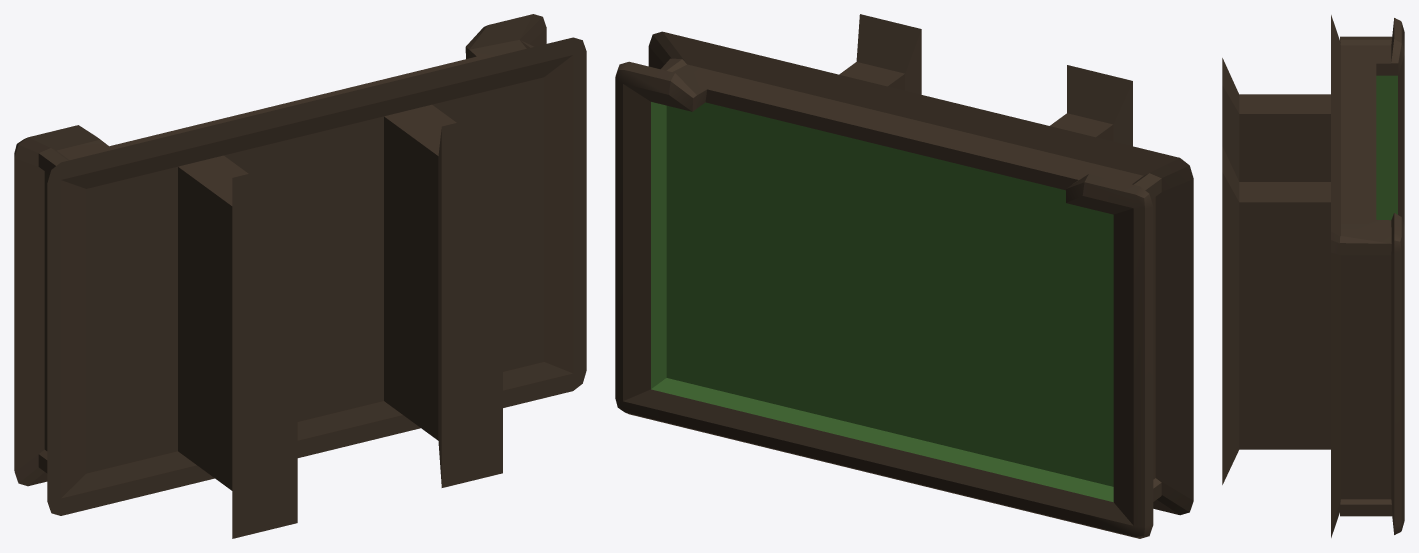
The model's file is Craps_Table.fbx.
3 renders of one model, left to right at view 1: azimuth 30°, elevation 25°; view 2: azimuth 150°, elevation 25°; view 3: azimuth 270°, elevation 25°, orthographic. The views are drawn at different scales.
Parts seen in each view (by area): view 1: Base_Mesh_CrapsTable; view 2: Base_Mesh_CrapsTable; view 3: Base_Mesh_CrapsTable.
Boxes of the visible parts, bbox=[...] form: Base_Mesh_CrapsTable: bbox=[14, 14, 586, 538]; Base_Mesh_CrapsTable: bbox=[615, 14, 1193, 538]; Base_Mesh_CrapsTable: bbox=[1222, 15, 1404, 537].
Bounding box in the file's own units: 368 × 236 × 124.
